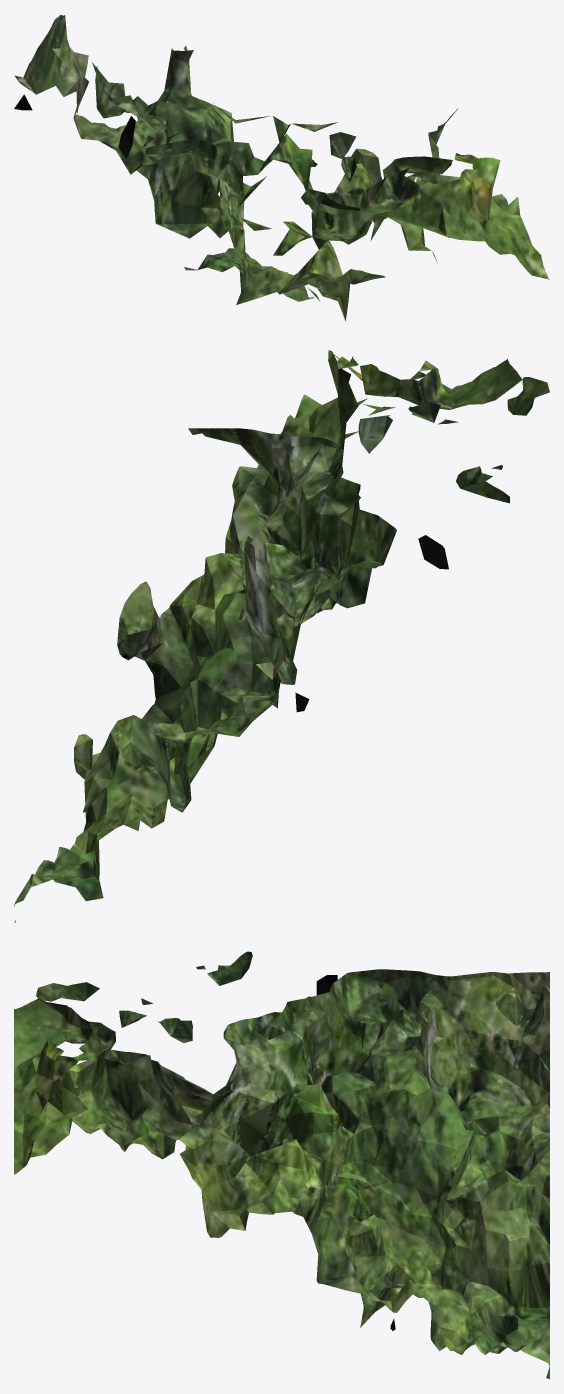
The picture shows the model from 3 angles, top to bottom: view 1: azimuth 30°, elevation 25°; view 2: azimuth 150°, elevation 25°; view 3: azimuth 270°, elevation 25°; orthographic projection. The views are drawn at different scales.
Bounding box in the file's own units: 14.52 × 16.25 × 26.11.
Materials: 2 (2 with a texture image).
